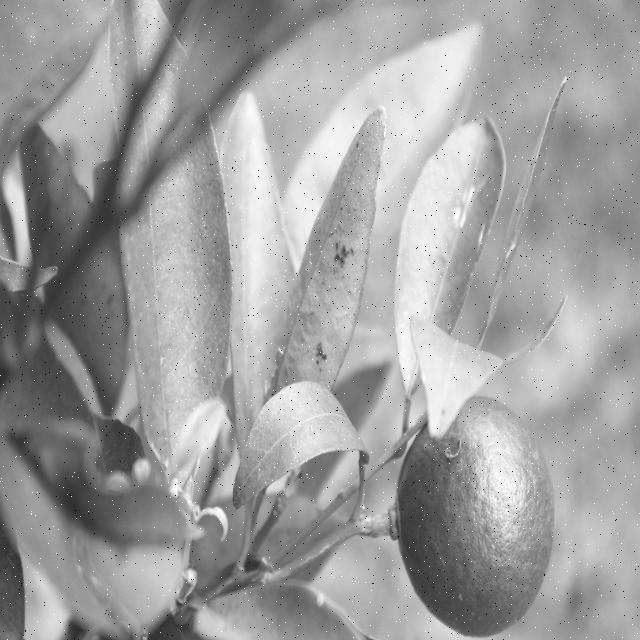blackspot: (285, 116, 383, 375), (65, 247, 118, 341), (278, 422, 316, 459), (128, 10, 153, 50), (434, 402, 450, 428)
